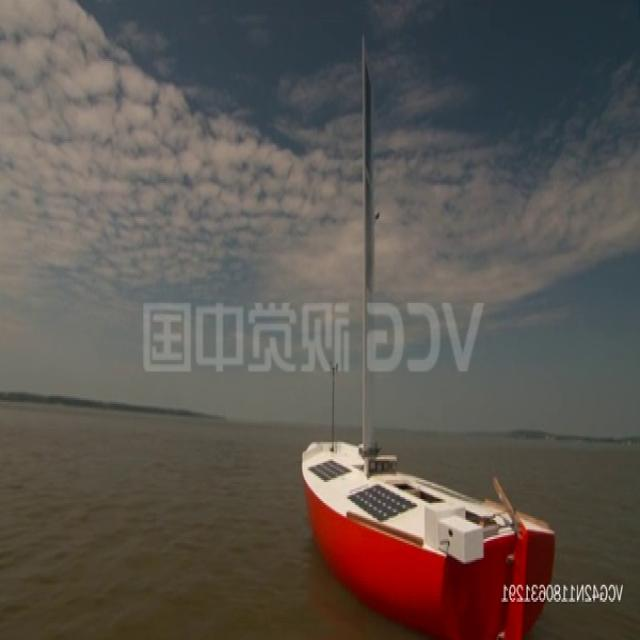houseboat: (302, 417, 560, 640)
